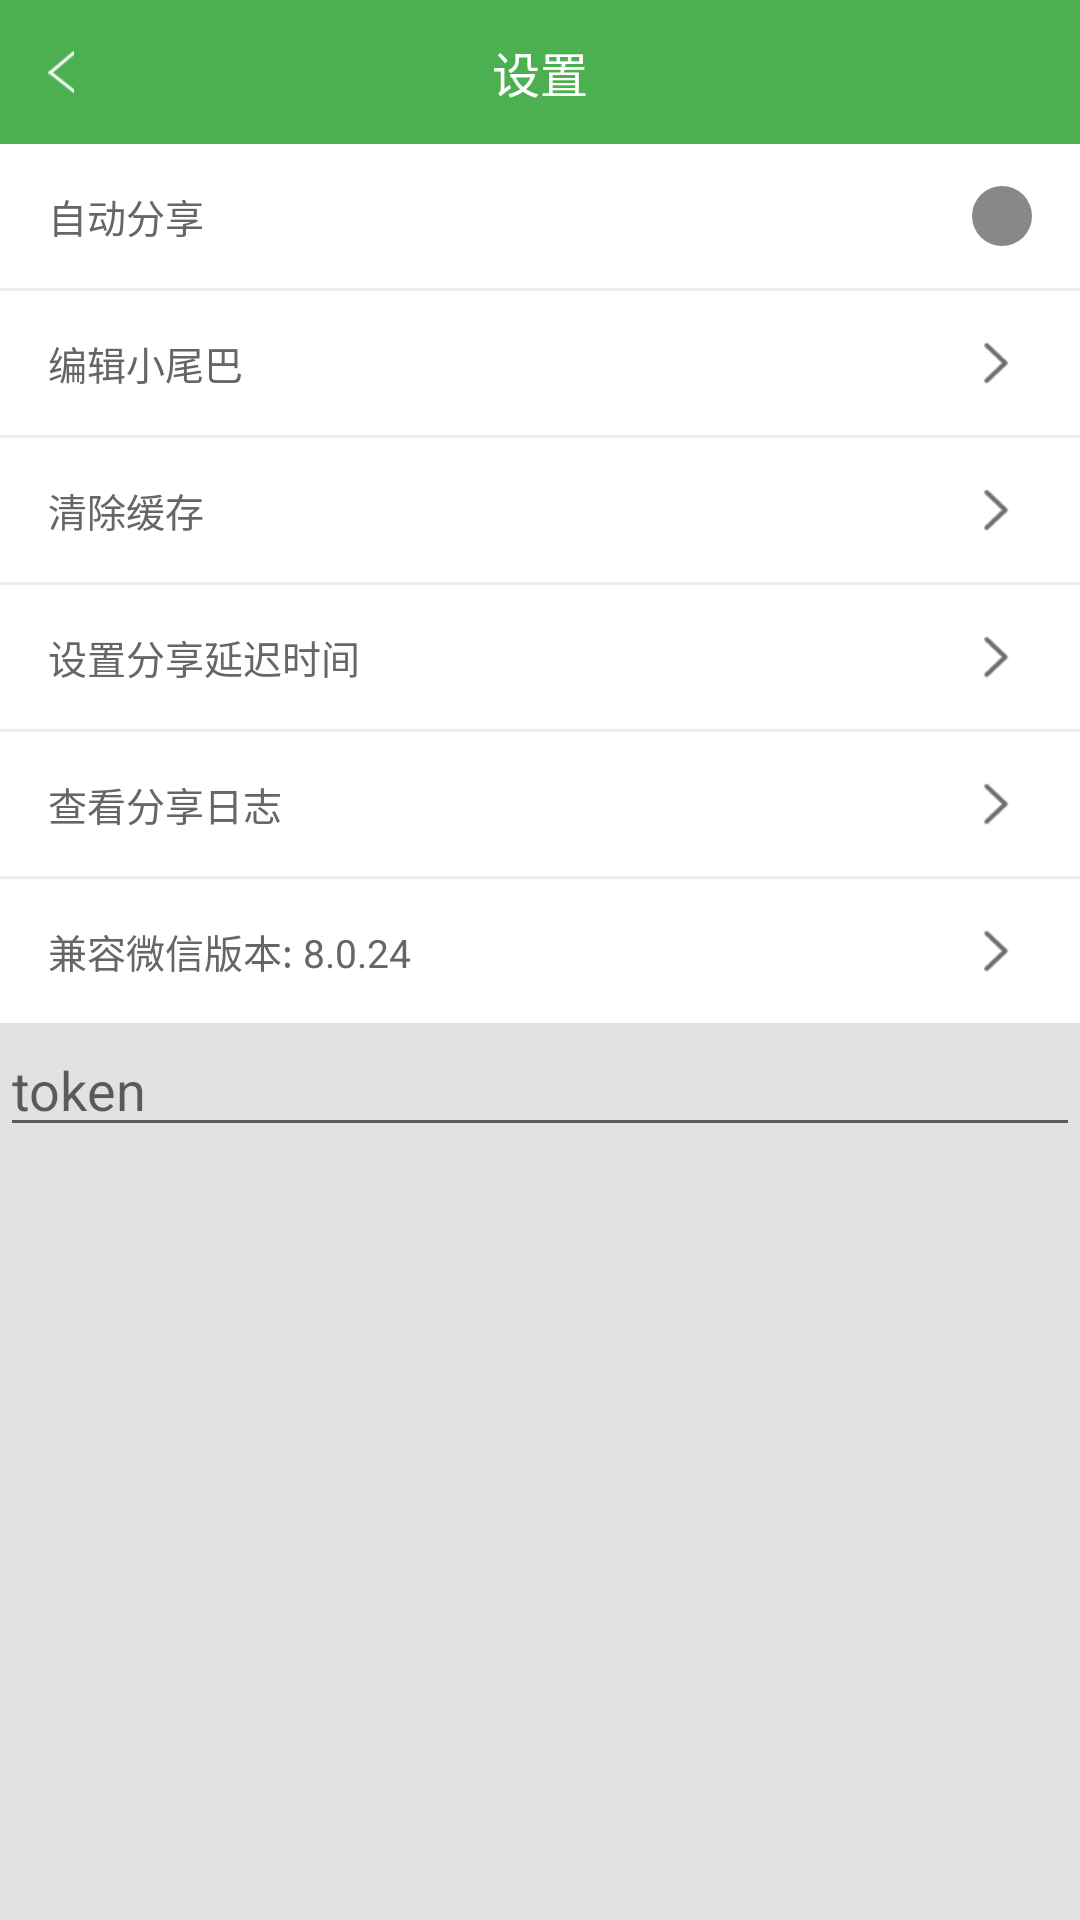

Named icons in this screenshot (1080 × 1920) and their centers, [x,y]:
arrow right: [996,363], [996,510], [996,657], [996,804], [996,951]
back: [61,72]
